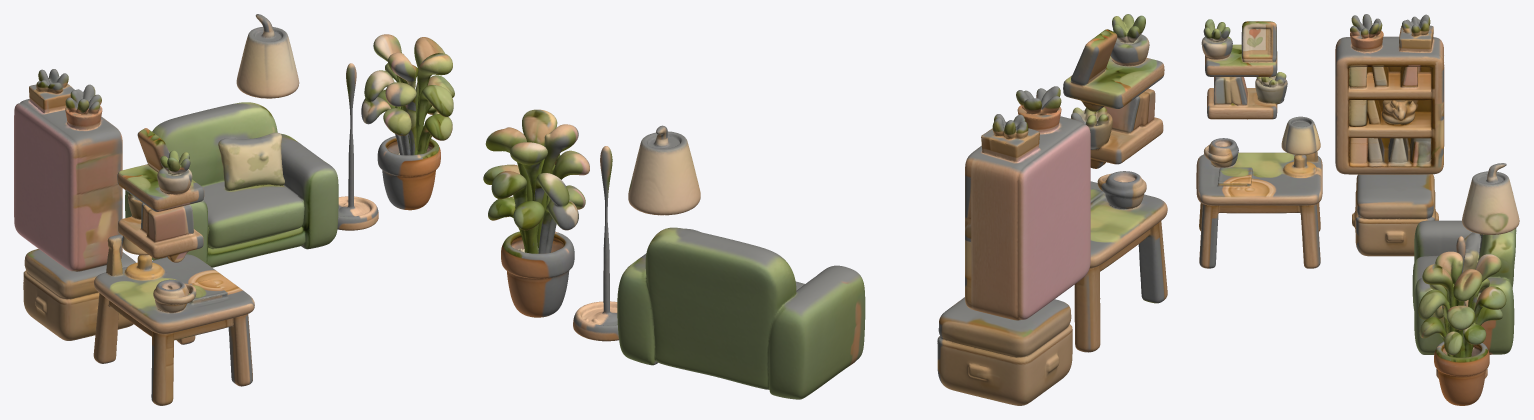
File: 迷你客厅3d模型.glb
3 views of the same model, side by side, from view 1: azimuth 30°, elevation 25°; view 2: azimuth 150°, elevation 25°; view 3: azimuth 270°, elevation 25° (orthographic). The views are drawn at different scales.
Parts seen in each view (by area): view 1: tripo_node_fc7108ef-7cc3-4633-b13b-05c034be4a06; view 2: tripo_node_fc7108ef-7cc3-4633-b13b-05c034be4a06; view 3: tripo_node_fc7108ef-7cc3-4633-b13b-05c034be4a06.
Part boxes in pixels (x1,y1,x2,y2): tripo_node_fc7108ef-7cc3-4633-b13b-05c034be4a06: (14,14,454,405); tripo_node_fc7108ef-7cc3-4633-b13b-05c034be4a06: (483,14,1167,405); tripo_node_fc7108ef-7cc3-4633-b13b-05c034be4a06: (1196,14,1519,405).
Bounding box in the file's own units: 1 × 0.5184 × 0.6941.
Materials: 1 (1 with a texture image).
